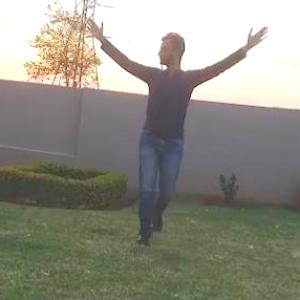takeoff: (92, 27, 274, 235)
